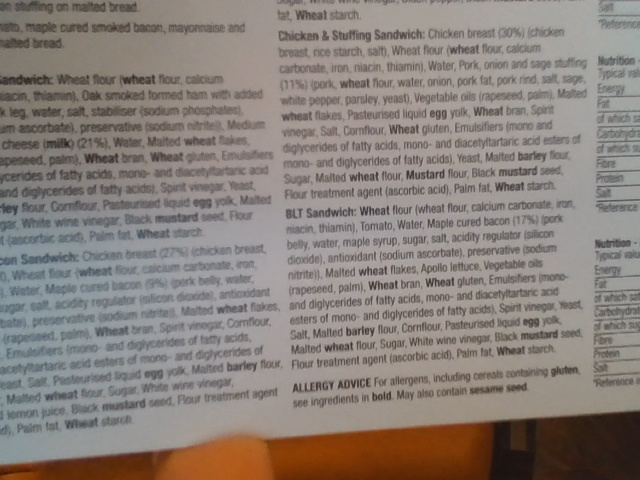chicken: (275, 27, 321, 43)
egg: (427, 106, 448, 122)
